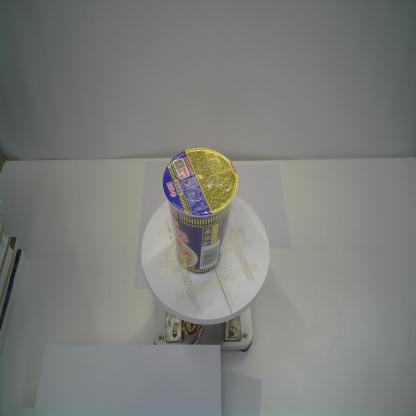Instant Noodles: (160, 145, 240, 279)
